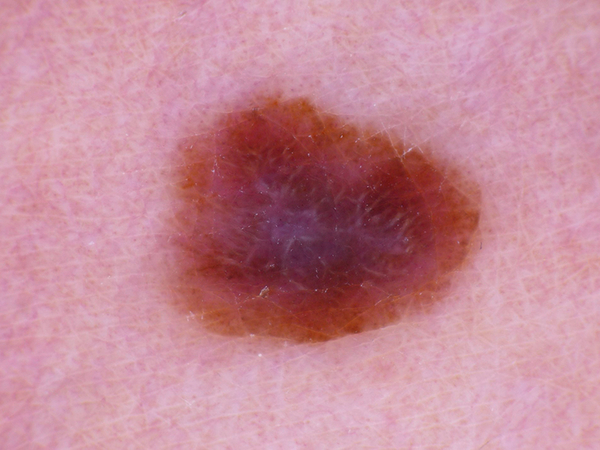Detected Lesion: (149, 102, 492, 349)
